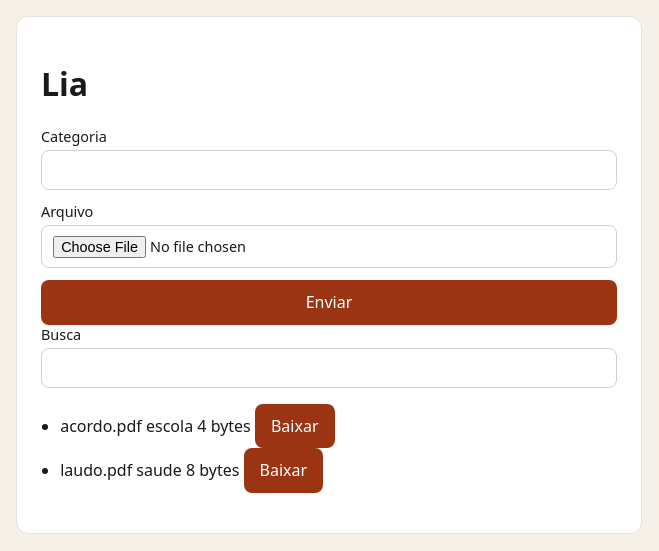
Scenario: filters the list by name
Check: the text "acordo.pdf" is shown, box [60,415,142,437]
Type "laudo" into the field labelled "Busca" at (329, 368), box [41,348,617,388]
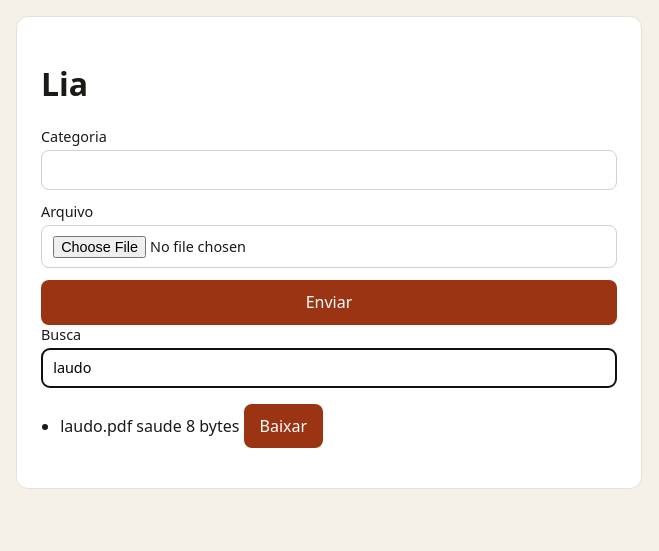
Check: the text "laudo.pdf" is shown, box [60,415,132,437]
Check: the text "acordo.pdf" is gone
